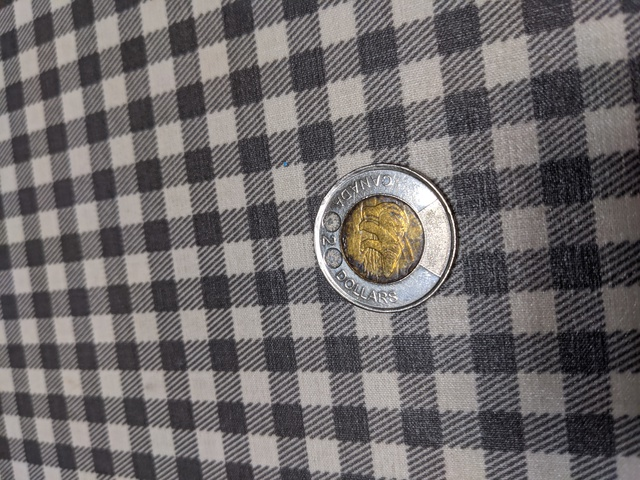twonie: (294, 152, 468, 314)
